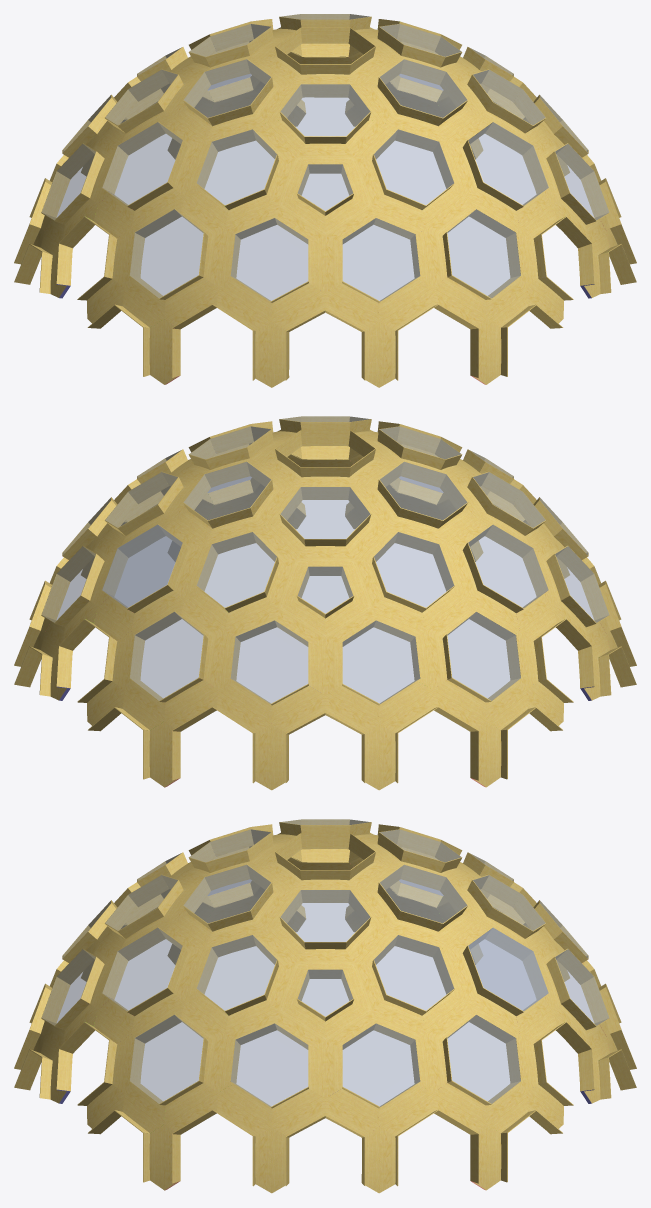
File: Dome.glb
3 renders of one model, top to bottom at view 1: azimuth 30°, elevation 25°; view 2: azimuth 150°, elevation 25°; view 3: azimuth 270°, elevation 25°, orthographic.
Parts seen in each view (by area): view 1: Component_15_10.34, Component_15_11.36, Component_5_4.38, Component_5_5.40, Component_15_5.20, Component_15_1.4, Component_1_2.60, Component_1_1.58, Component_15_7.26, Component_5_1.6, Component_5_2.16, Component_5_9.56 (+84 smaller); view 2: Component_15_13.48, Component_15_12.42, Component_5_6.44, Component_5_7.46, Component_15_2.8, Component_15_8.30, Component_1_3.62, Component_1_1.58, Plastic_film.3, Component_15_3.10, Component_5_1.6, Component_5_3.28 (+84 smaller); view 3: Component_15_14.52, Component_15_15.54, Component_5_9.56, Component_5_8.50, Component_15_4.14, Component_15_6.24, Component_1_3.62, Component_1_2.60, Plastic_film.3, Component_15_9.32, Component_5_2.16, Component_5_3.28 (+84 smaller).
Boxes of the visible parts, x1=… form: Component_15_10.34: x1=230, y1=218, x2=308, y2=301; Component_15_11.36: x1=342, y1=218, x2=420, y2=301; Component_5_4.38: x1=130, y1=209, x2=203, y2=297; Component_5_5.40: x1=447, y1=209, x2=520, y2=298; Component_15_5.20: x1=197, y1=129, x2=276, y2=204; Component_15_1.4: x1=374, y1=129, x2=453, y2=204; Component_1_2.60: x1=468, y1=122, x2=548, y2=205; Component_1_1.58: x1=102, y1=122, x2=182, y2=205; Component_15_7.26: x1=280, y1=84, x2=370, y2=136; Component_5_1.6: x1=184, y1=59, x2=270, y2=117; Component_5_2.16: x1=380, y1=59, x2=466, y2=117; Component_5_9.56: x1=555, y1=144, x2=608, y2=220; Component_15_13.48: x1=230, y1=620, x2=308, y2=703; Component_15_12.42: x1=342, y1=620, x2=419, y2=703; Component_5_6.44: x1=130, y1=612, x2=203, y2=700; Component_5_7.46: x1=447, y1=612, x2=520, y2=700; Component_15_2.8: x1=196, y1=532, x2=276, y2=607; Component_15_8.30: x1=374, y1=532, x2=454, y2=607; Component_1_3.62: x1=102, y1=524, x2=182, y2=607; Component_1_1.58: x1=468, y1=525, x2=548, y2=607; Plastic_film.3: x1=103, y1=525, x2=182, y2=607; Component_15_3.10: x1=280, y1=487, x2=370, y2=538; Component_5_1.6: x1=380, y1=462, x2=467, y2=520; Component_5_3.28: x1=183, y1=462, x2=270, y2=520; Component_15_14.52: x1=230, y1=1023, x2=308, y2=1106; Component_15_15.54: x1=342, y1=1023, x2=419, y2=1106; Component_5_9.56: x1=130, y1=1015, x2=203, y2=1103; Component_5_8.50: x1=447, y1=1015, x2=520, y2=1103; Component_15_4.14: x1=374, y1=935, x2=454, y2=1010; Component_15_6.24: x1=196, y1=935, x2=276, y2=1010; Component_1_3.62: x1=468, y1=928, x2=548, y2=1010; Component_1_2.60: x1=102, y1=928, x2=182, y2=1010; Plastic_film.3: x1=468, y1=928, x2=547, y2=1010; Component_15_9.32: x1=280, y1=890, x2=370, y2=941; Component_5_2.16: x1=183, y1=865, x2=270, y2=923; Component_5_3.28: x1=380, y1=865, x2=467, y2=923.
Size of the model in its own units: 22592 by 9508 by 23162.
787 materials, 378 textured.
